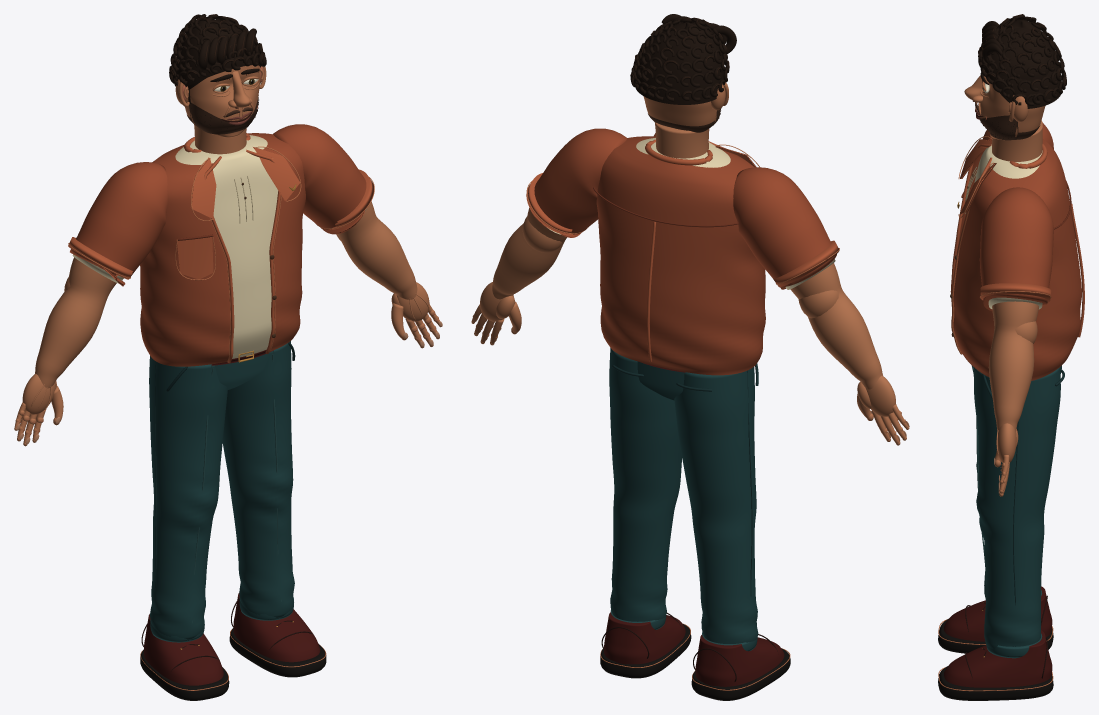
3 renders of one model, left to right at view 1: azimuth 30°, elevation 25°; view 2: azimuth 150°, elevation 25°; view 3: azimuth 270°, elevation 25°, orthographic. The views are drawn at different scales.
Visible parts, largest first — view 1: 19 open woven overshirt, 35 R tapered trouser leg, 35 L tapered trouser leg, 01 cream jersey torso, 09 R tailored short sleeve, 09 L tailored short sleeve, 06 R coherent arm, 06 L coherent arm, 46 L oxblood derby upper, 46 R oxblood derby upper, 81 loose sculpted curls, 22 folded camp collar (+13 smaller); view 2: 19 open woven overshirt, 35 R tapered trouser leg, 35 L tapered trouser leg, 09 R tailored short sleeve, 09 L tailored short sleeve, 06 R coherent arm, 81 loose sculpted curls, 80 complete hair cap, 46 R oxblood derby upper, 46 L oxblood derby upper, 06 L coherent arm, 02 neck (+11 smaller); view 3: 35 L tapered trouser leg, 19 open woven overshirt, 09 L tailored short sleeve, 06 L coherent arm, 81 loose sculpted curls, 46 L oxblood derby upper, 80 complete hair cap, 45 L stacked shoe sole, 46 R oxblood derby upper, 52 sculpted head, 02 neck, 20 placket rounded piping (+18 smaller).
Boxes of the visible parts, x1,y1,x2,y2 form: 19 open woven overshirt: (140,133,305,366); 35 R tapered trouser leg: (149,356,227,641); 35 L tapered trouser leg: (222,341,294,619); 01 cream jersey torso: (175,135,278,358); 09 R tailored short sleeve: (70,162,167,286); 09 L tailored short sleeve: (273,124,366,234); 06 R coherent arm: (35,257,116,388); 06 L coherent arm: (337,201,417,299); 46 L oxblood derby upper: (233,593,320,662); 46 R oxblood derby upper: (144,614,223,685); 81 loose sculpted curls: (169,14,266,85); 22 folded camp collar: (191,147,300,218); 19 open woven overshirt: (596,136,765,375); 35 R tapered trouser leg: (674,367,758,643); 35 L tapered trouser leg: (609,348,681,621); 09 R tailored short sleeve: (733,167,836,289); 09 L tailored short sleeve: (530,128,626,237); 06 R coherent arm: (790,263,882,389); 81 loose sculpted curls: (630,17,729,101); 80 complete hair cap: (635,22,724,104); 46 R oxblood derby upper: (695,635,784,686); 46 L oxblood derby upper: (604,612,685,664); 06 L coherent arm: (492,208,566,299); 02 neck: (655,122,709,158); 35 L tapered trouser leg: (973,367,1060,649); 19 open woven overshirt: (953,137,1081,380); 09 L tailored short sleeve: (979,187,1053,311); 06 L coherent arm: (988,301,1038,431); 81 loose sculpted curls: (978,14,1066,105); 46 L oxblood derby upper: (944,630,1052,687); 80 complete hair cap: (984,20,1062,108); 45 L stacked shoe sole: (938,666,1053,700); 46 R oxblood derby upper: (944,586,1052,641); 52 sculpted head: (978,83,1045,140); 02 neck: (992,120,1042,161); 20 placket rounded piping: (950,144,992,354).
Size of the model in its own units: 1.45 by 2.08 by 0.4312.
